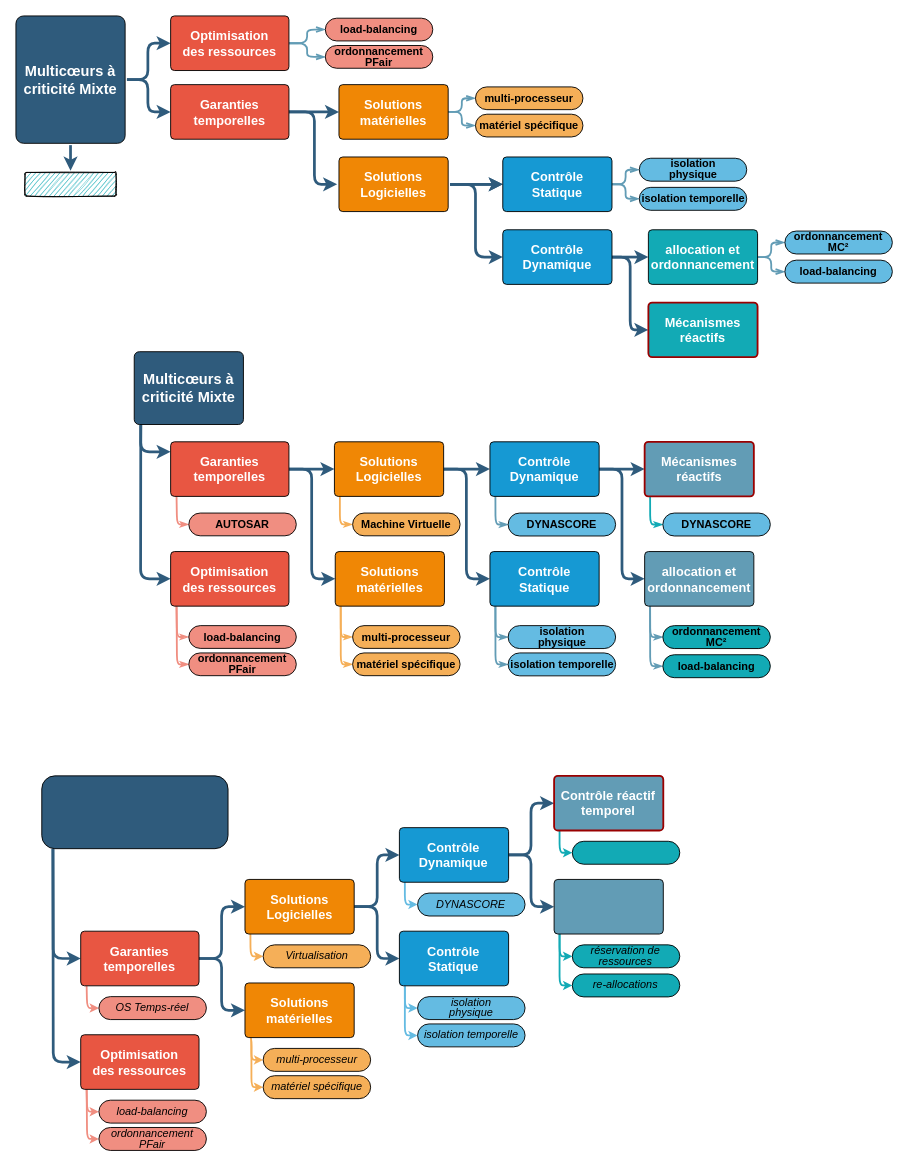
This 909x1176 diagram has some shape labels left out. The shapes that lost their labels are listed below. From the top down, each one's centre as x and y in pixels, then its label:
At (70,184): "Multicoeurs".
At (134,812): "Systèmes Multicœurs à Criticité Mixte".
At (625,852): "re-ordonnancement".
At (608,906): "Contrôle réactif spatial".
